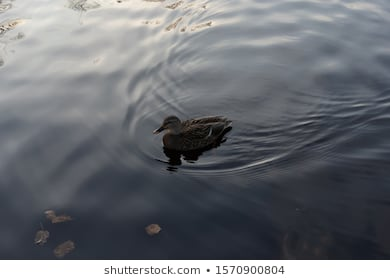duck: (145, 106, 240, 164)
